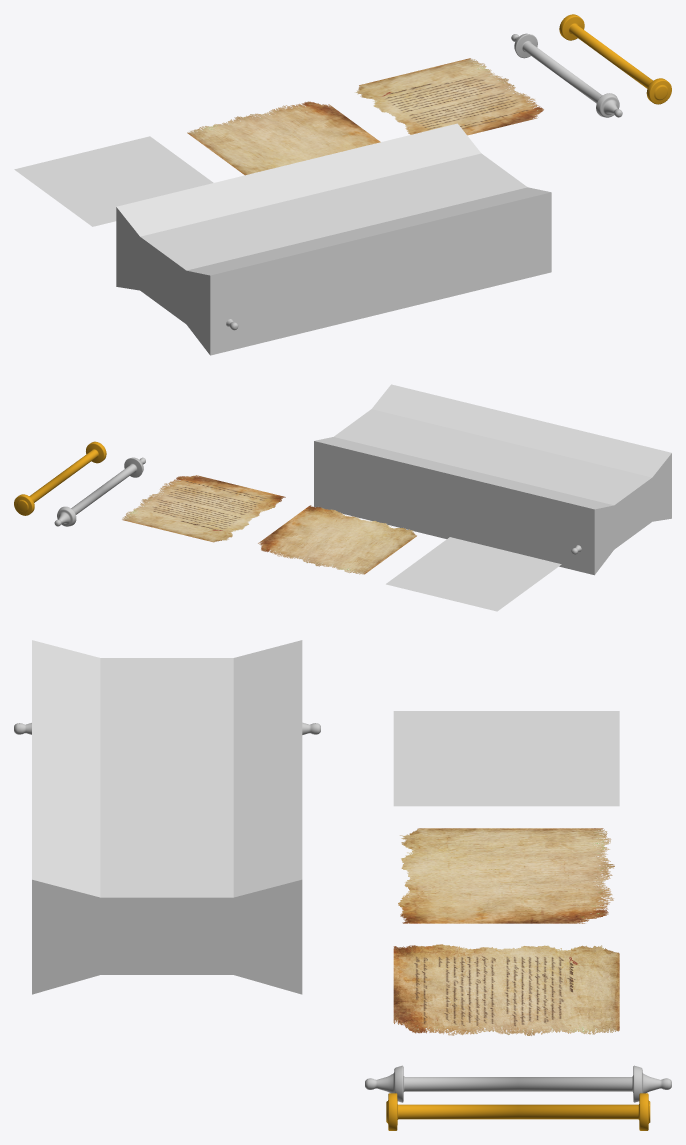
Rendered from rouleau.fbx.
3 renders of one model, top to bottom at view 1: azimuth 30°, elevation 25°; view 2: azimuth 150°, elevation 25°; view 3: azimuth 270°, elevation 25°, orthographic. The views are drawn at different scales.
Parts seen in each view (by area): view 1: deformation du parchemin, ex texture parchemin 1, ex texture parchemin 3, ex texture parchemin 2, ex suport or, ex suport argent; view 2: deformation du parchemin, ex texture parchemin 1, ex texture parchemin 3, ex texture parchemin 2, ex suport or, ex suport argent; view 3: deformation du parchemin, ex texture parchemin 1, ex texture parchemin 2, ex texture parchemin 3, ex suport argent, ex suport or.
Part boxes in pixels (bbox=[...]): deformation du parchemin: bbox=[116, 123, 551, 355]; ex texture parchemin 1: bbox=[14, 136, 213, 226]; ex texture parchemin 3: bbox=[355, 58, 543, 135]; ex texture parchemin 2: bbox=[187, 101, 380, 175]; ex suport or: bbox=[559, 14, 671, 104]; ex suport argent: bbox=[511, 33, 622, 117]; deformation du parchemin: bbox=[314, 384, 671, 575]; ex texture parchemin 1: bbox=[386, 537, 561, 611]; ex texture parchemin 3: bbox=[122, 475, 285, 542]; ex texture parchemin 2: bbox=[258, 505, 416, 574]; ex suport or: bbox=[14, 441, 106, 515]; ex suport argent: bbox=[54, 457, 145, 526]; deformation du parchemin: bbox=[32, 640, 302, 994]; ex texture parchemin 1: bbox=[393, 711, 619, 806]; ex texture parchemin 2: bbox=[398, 828, 614, 923]; ex texture parchemin 3: bbox=[393, 944, 619, 1035]; ex suport argent: bbox=[365, 1065, 671, 1102]; ex suport or: bbox=[386, 1093, 650, 1130].
Bounding box in the file's own units: 861 × 112 × 582.
6 materials, 2 textured.
